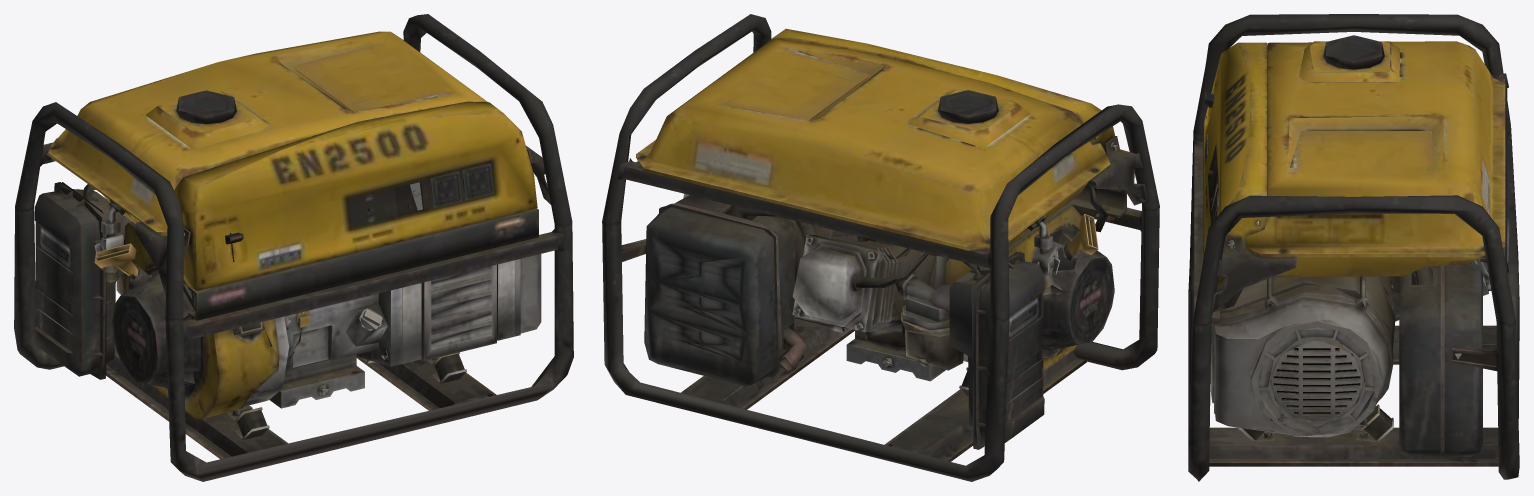
The model's file is generator.glb.
The picture shows the model from 3 angles, left to right: view 1: azimuth 30°, elevation 25°; view 2: azimuth 150°, elevation 25°; view 3: azimuth 270°, elevation 25°; orthographic projection.
Parts seen in each view (by area): view 1: portable_generator; view 2: portable_generator; view 3: portable_generator.
Boxes of the visible parts, x1=… form: portable_generator: x1=14, y1=14, x2=573, y2=481; portable_generator: x1=602, y1=14, x2=1159, y2=481; portable_generator: x1=1188, y1=14, x2=1519, y2=481.
Bounding box in the file's own units: 0.8146 × 0.5752 × 0.564.
Materials: 2 (2 with a texture image).
